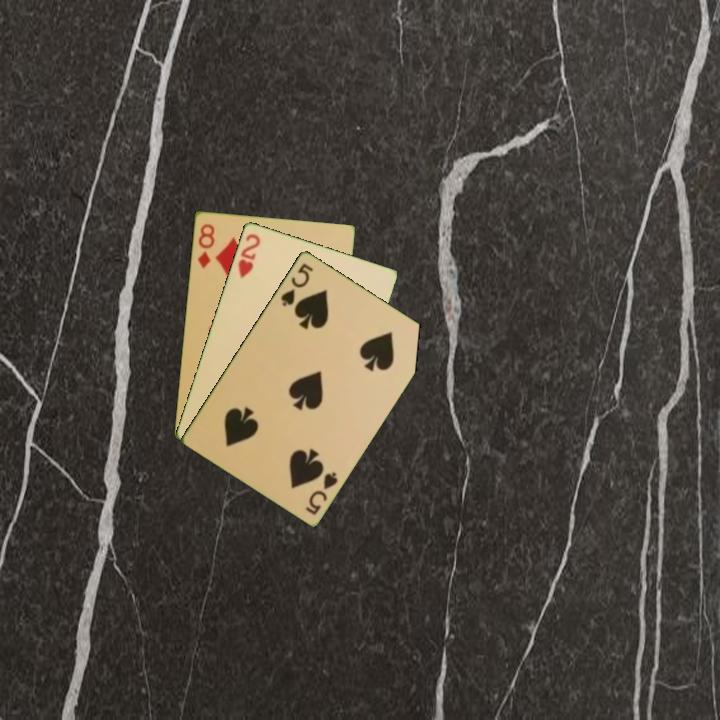2h: (234, 230, 263, 281)
5s: (277, 259, 316, 309), (302, 468, 341, 517)
8d: (194, 220, 217, 271)
